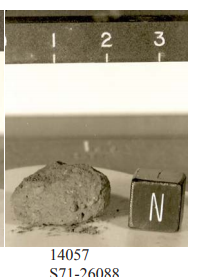Breccia: (15, 124, 110, 241)
